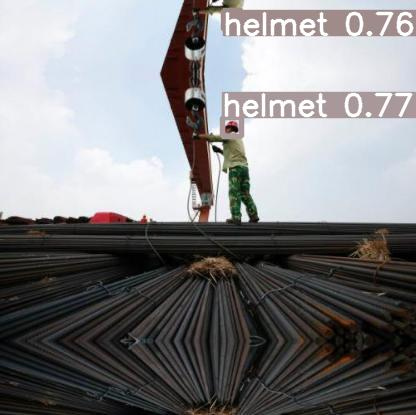helmet: (222, 117, 241, 136), (223, 10, 241, 29)
